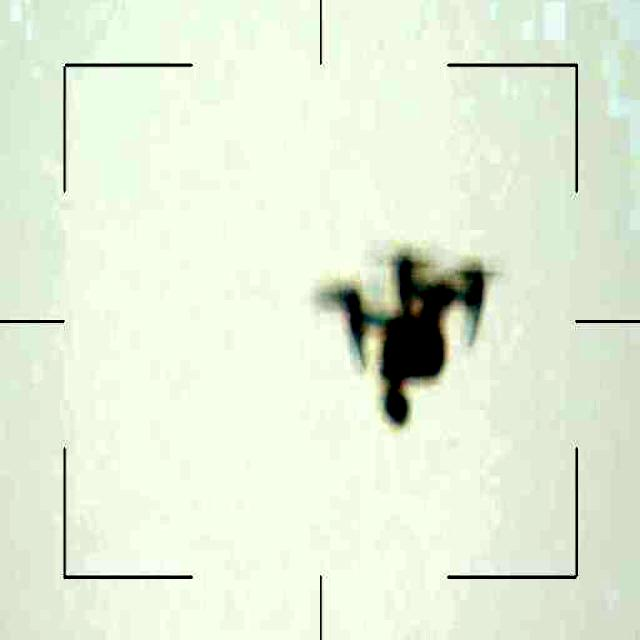bird: (331, 234, 491, 422)
